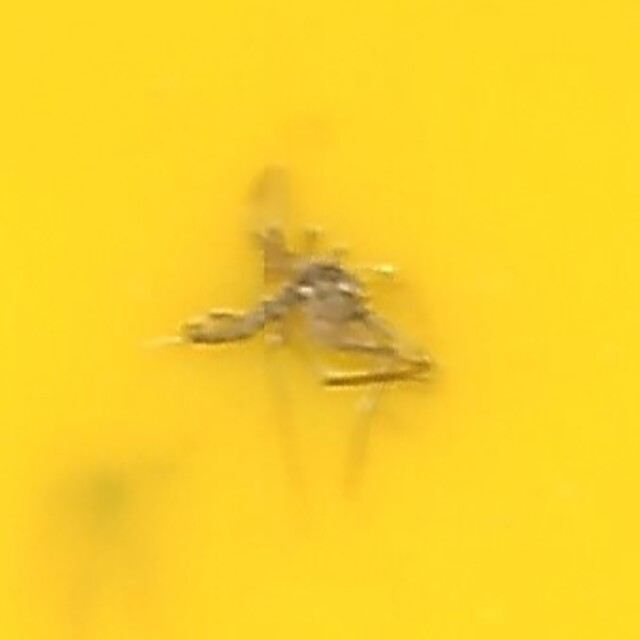Nematocera: (189, 223, 451, 417)
